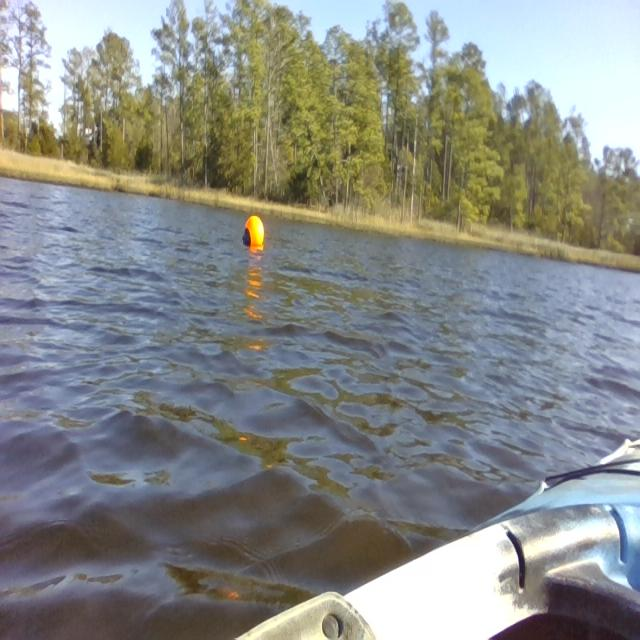Buoy: (230, 209, 274, 264)
